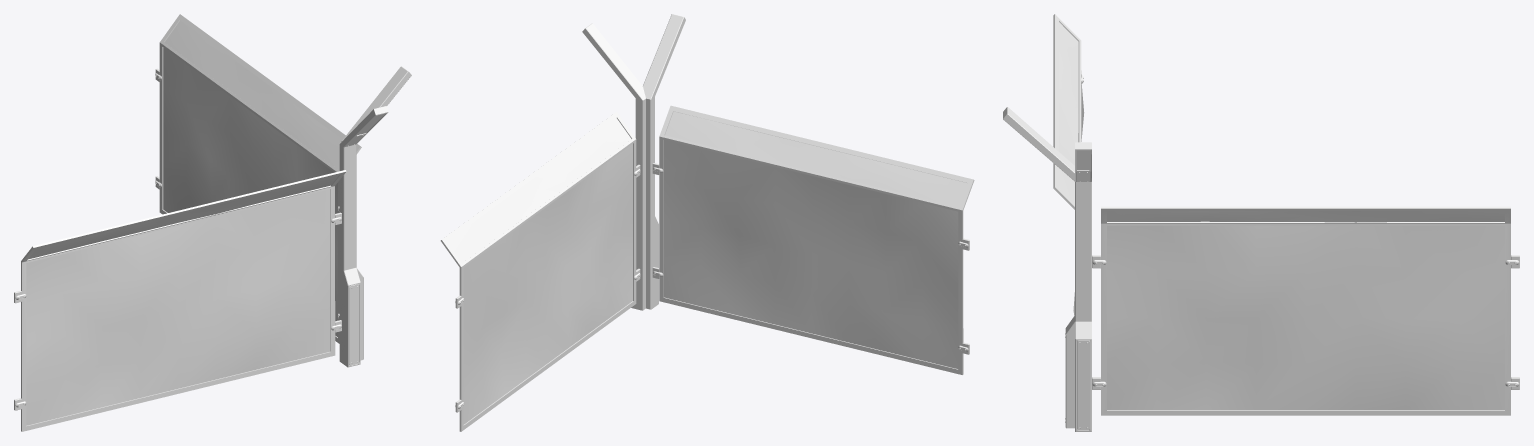
File: KB3D_FTW_PropFenceSegment_A_grp.glb
The picture shows the model from 3 angles, left to right: view 1: azimuth 30°, elevation 25°; view 2: azimuth 150°, elevation 25°; view 3: azimuth 270°, elevation 25°; orthographic projection. The views are drawn at different scales.
Visible parts, largest first — view 1: KB3D_FTW_PropFenceSegment_A_Main; view 2: KB3D_FTW_PropFenceSegment_A_Main; view 3: KB3D_FTW_PropFenceSegment_A_Main.
Boxes of the visible parts, x1,y1,x2,y2 form: KB3D_FTW_PropFenceSegment_A_Main: [14, 14, 411, 431]; KB3D_FTW_PropFenceSegment_A_Main: [440, 14, 974, 431]; KB3D_FTW_PropFenceSegment_A_Main: [1003, 14, 1519, 431].
Bounding box in the file's own units: 10.38 × 6.96 × 10.38.
4 materials, 1 textured.
